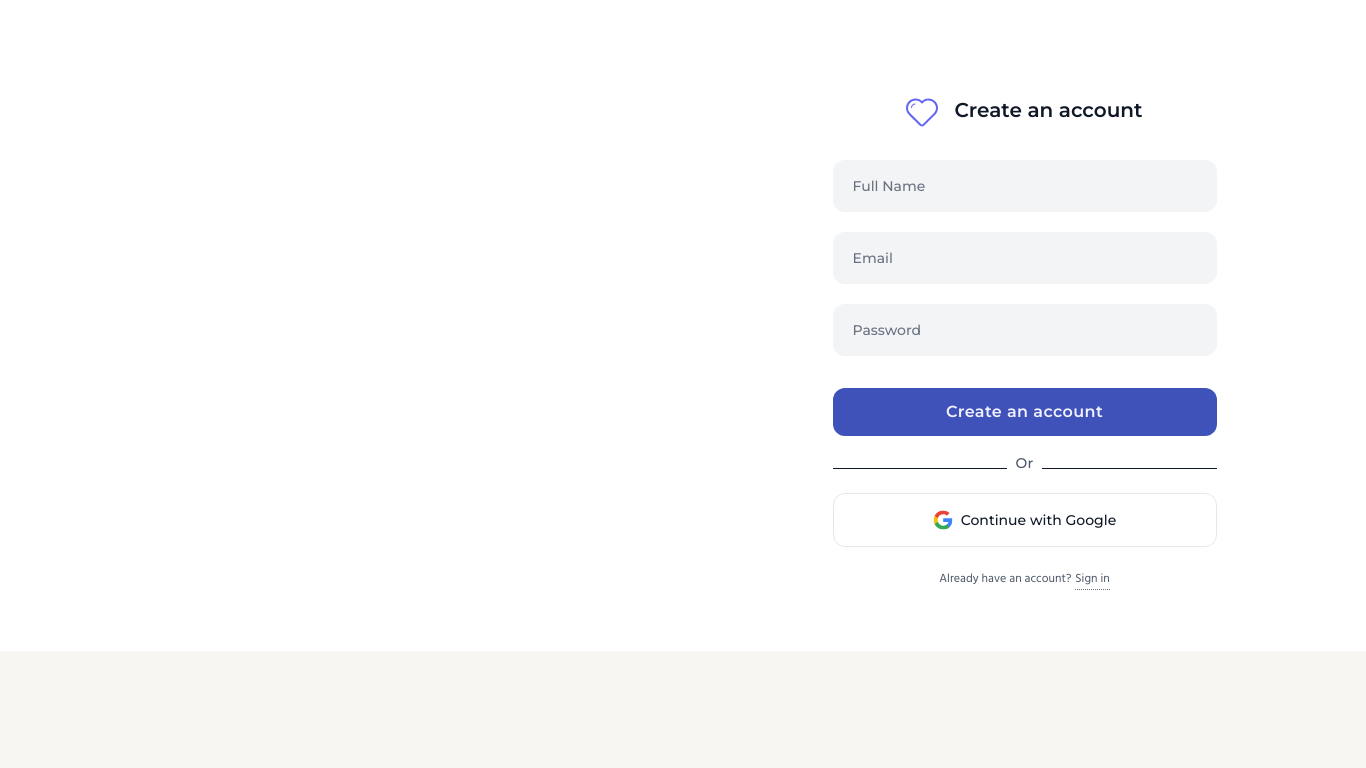
Scenario: SignUp › shows error message when create user fails
Type "test user" into the field labelled "Full Name". click: (1024,186)
box: [832,160,1216,212]
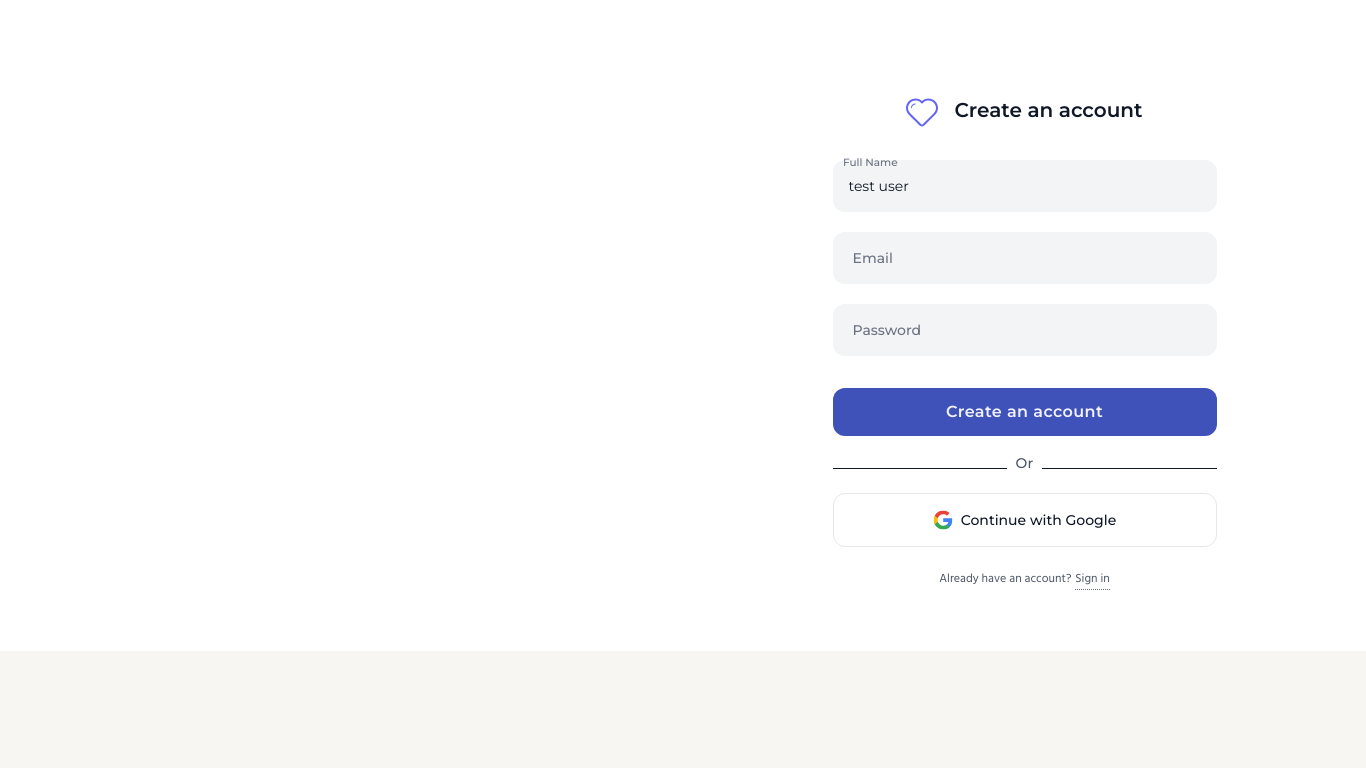
Type "testuser@example.com" into the field labelled "Email". click: (1024,258)
box: [832,232,1216,284]
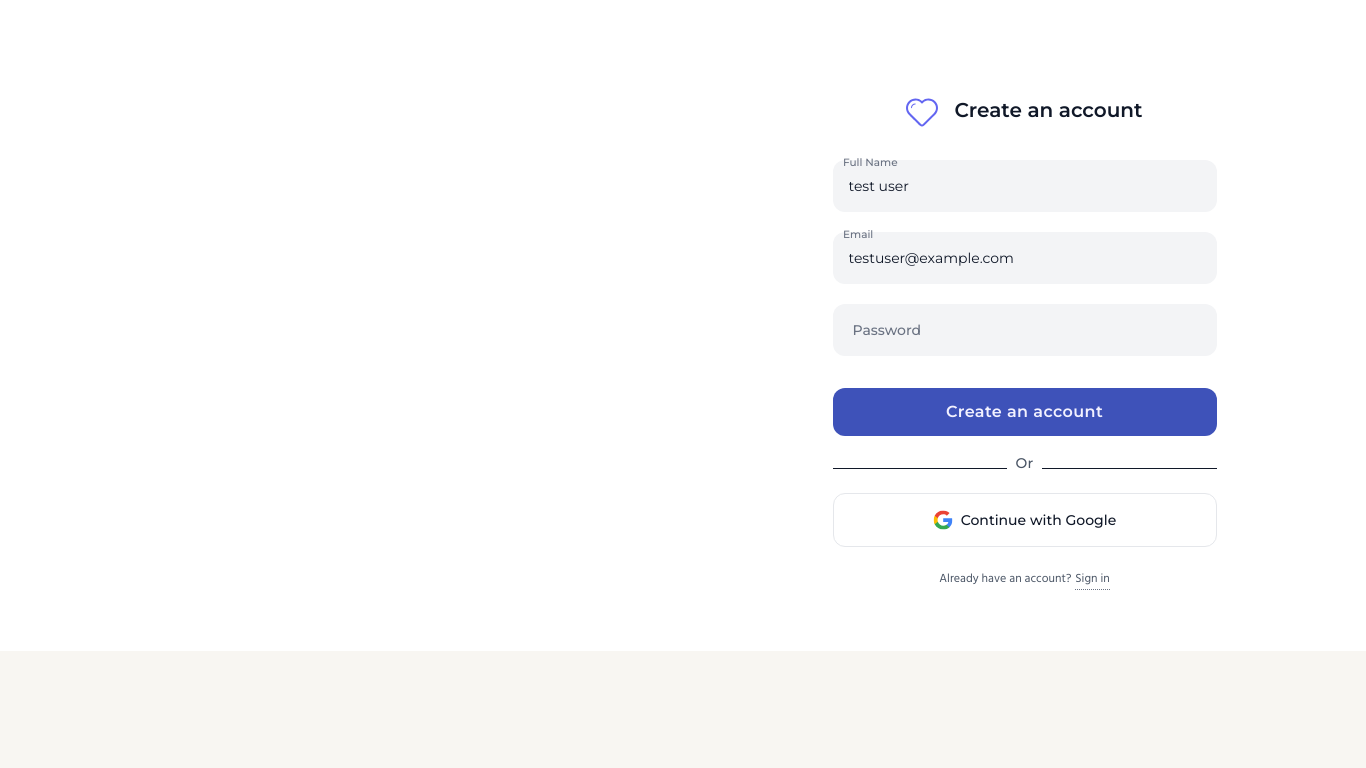
Type "password123!" into the password field labelled "Password". click: (1024,330)
box: [832,304,1216,356]
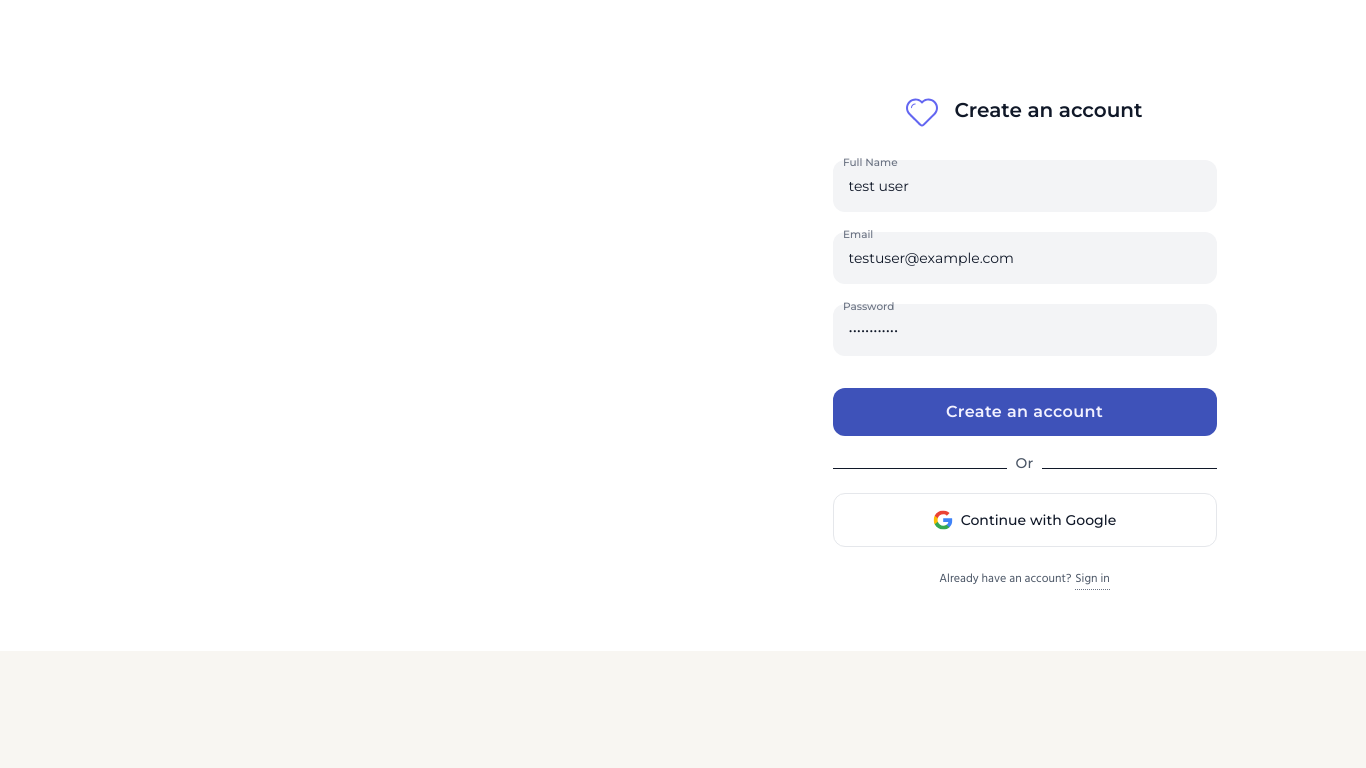
Click the button "Create an account". click: (1024,412)
box: [832,388,1216,436]
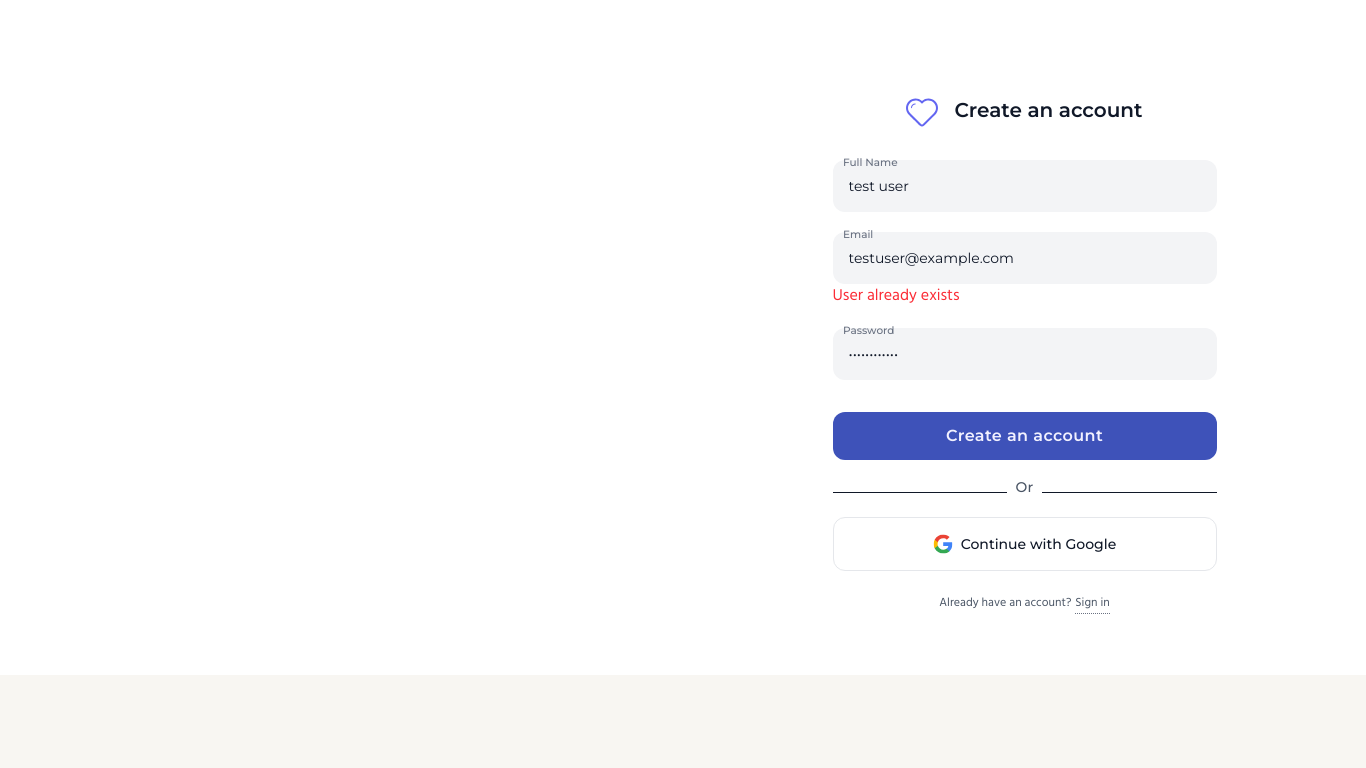
Check: the text "User already exists" is shown, box [832,283,960,309]
